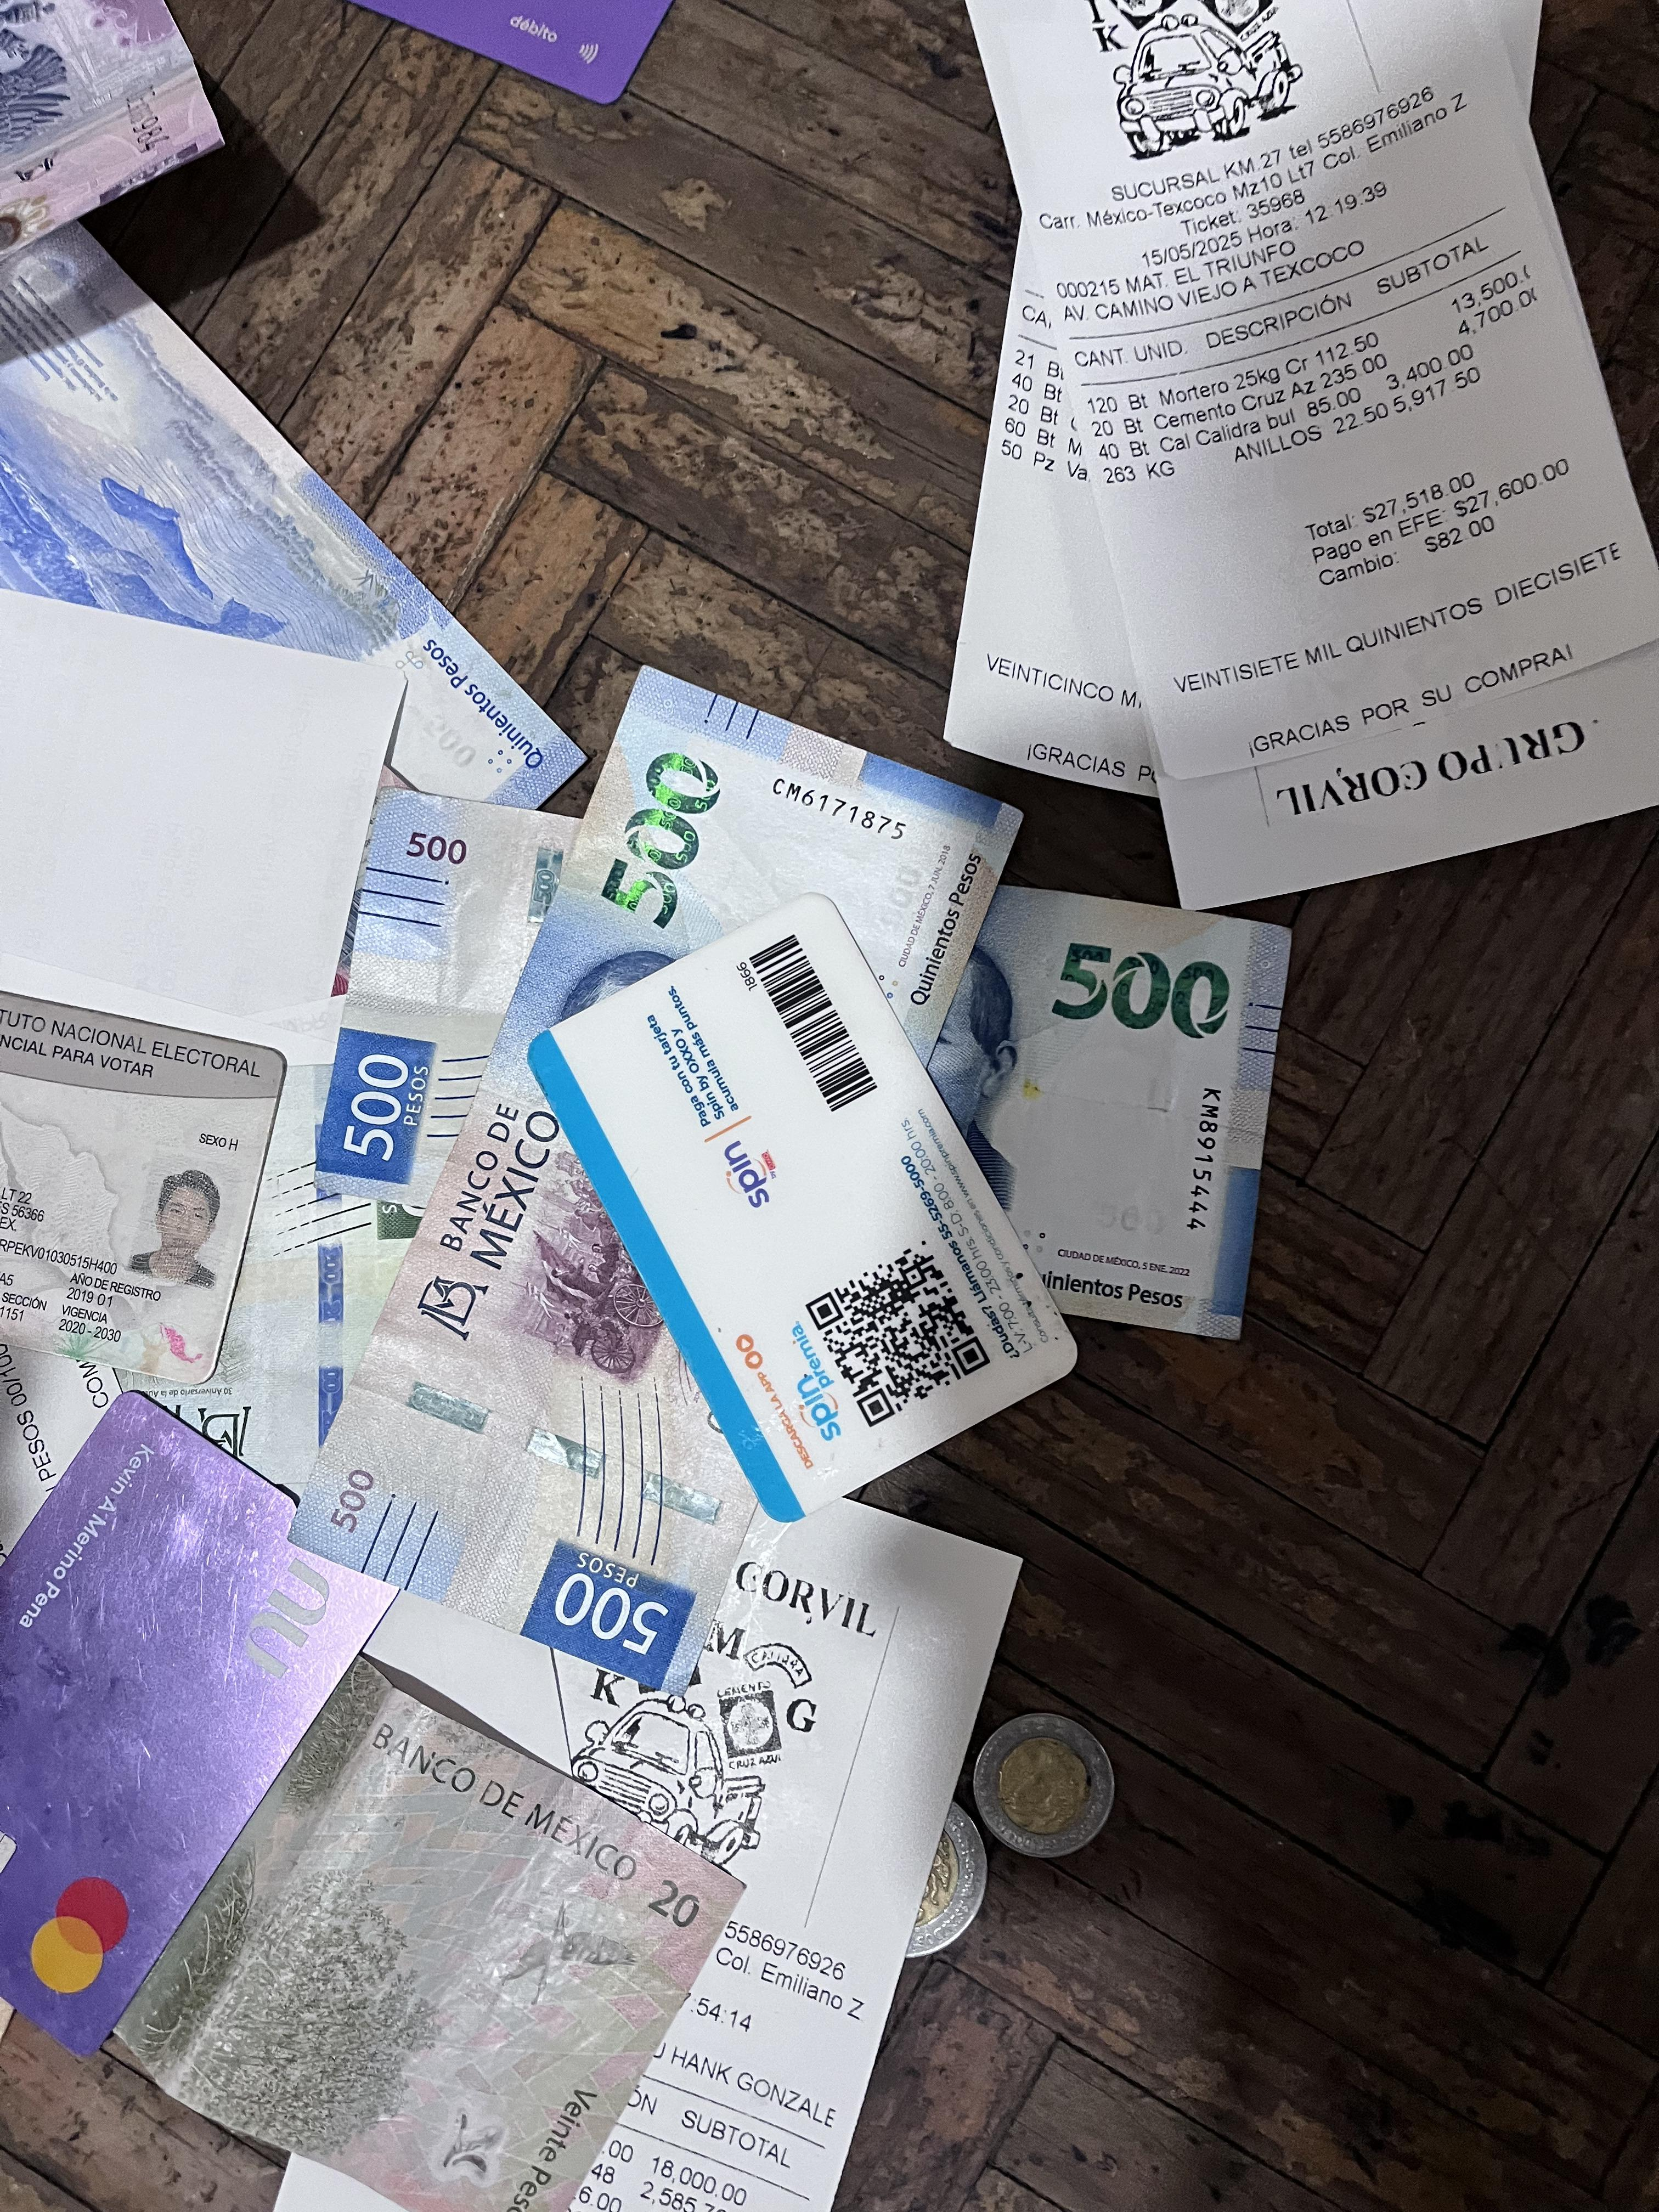20: (132, 1641, 742, 2212)
50: (0, 0, 253, 319)
500 nuevo: (310, 629, 1065, 1740), (288, 759, 1298, 1360), (0, 197, 596, 928)
